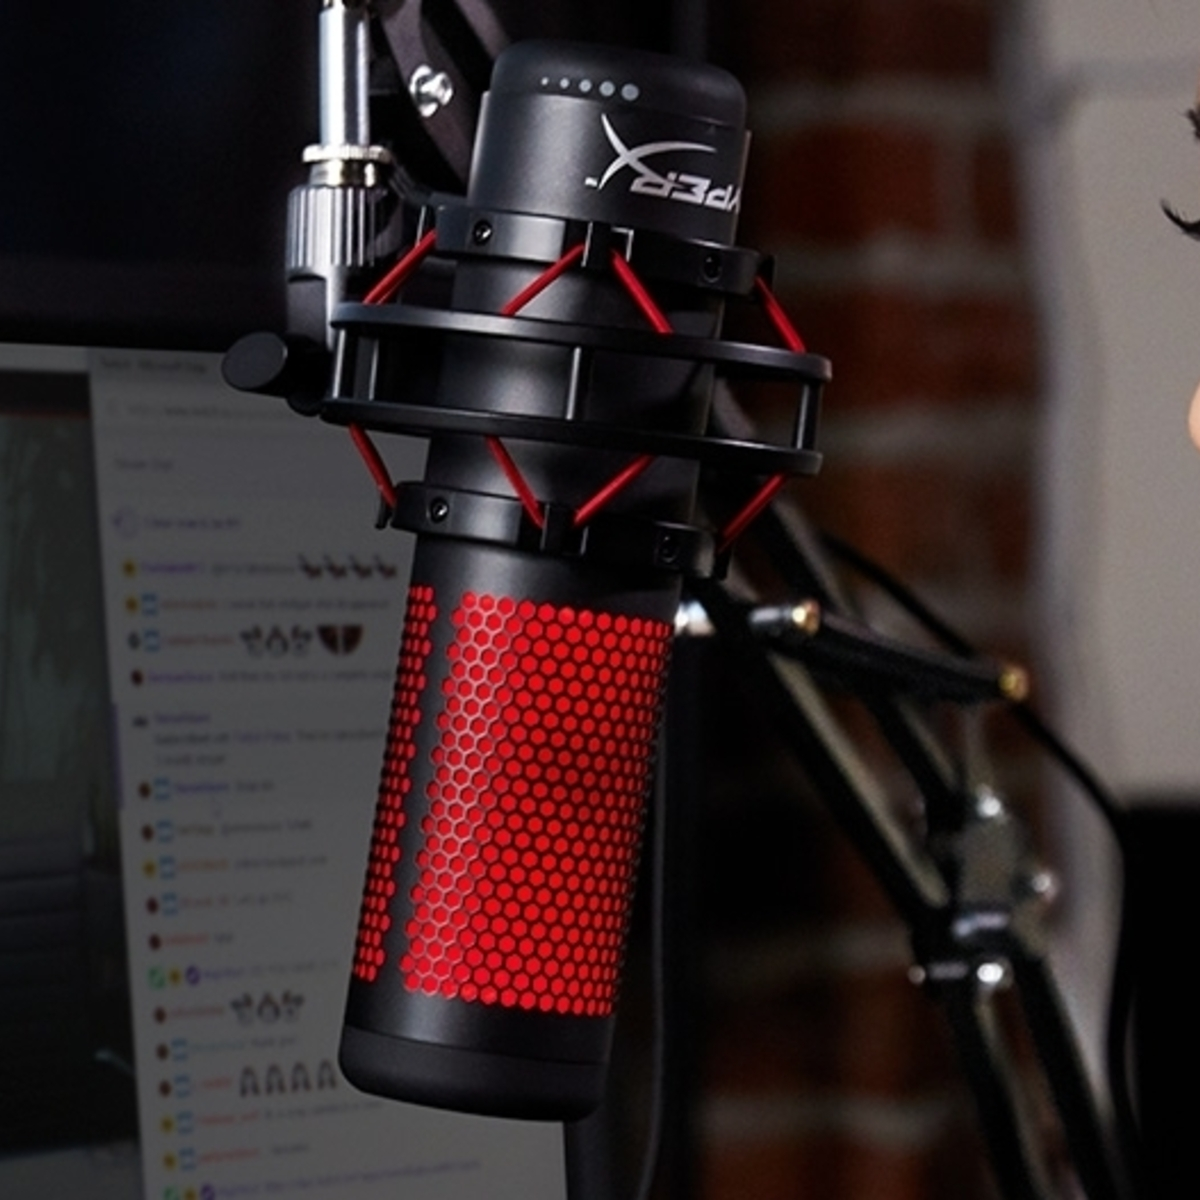microphone: (335, 38, 758, 1127)
